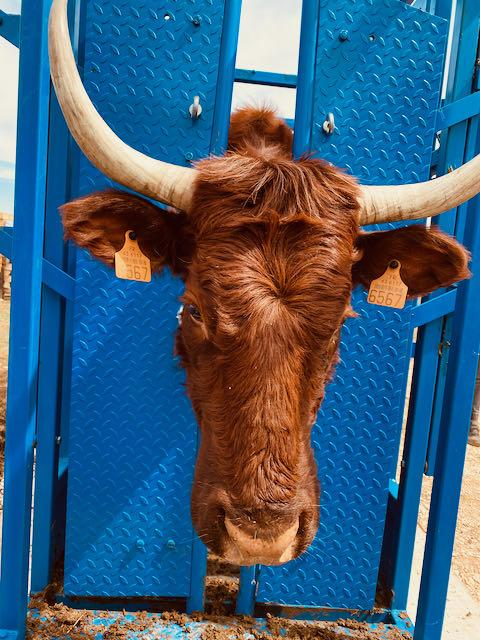muzzles: (184, 490, 326, 568)
